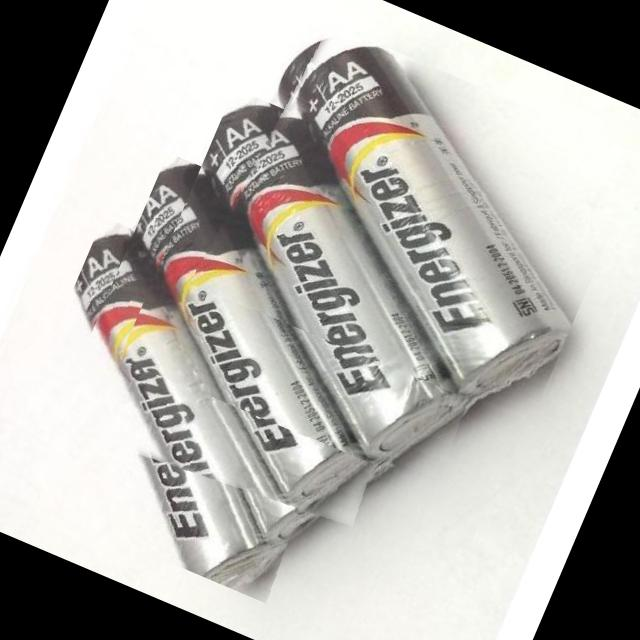Hazard: (189, 11, 640, 425), (120, 87, 550, 491), (52, 151, 459, 547), (0, 212, 383, 602)
